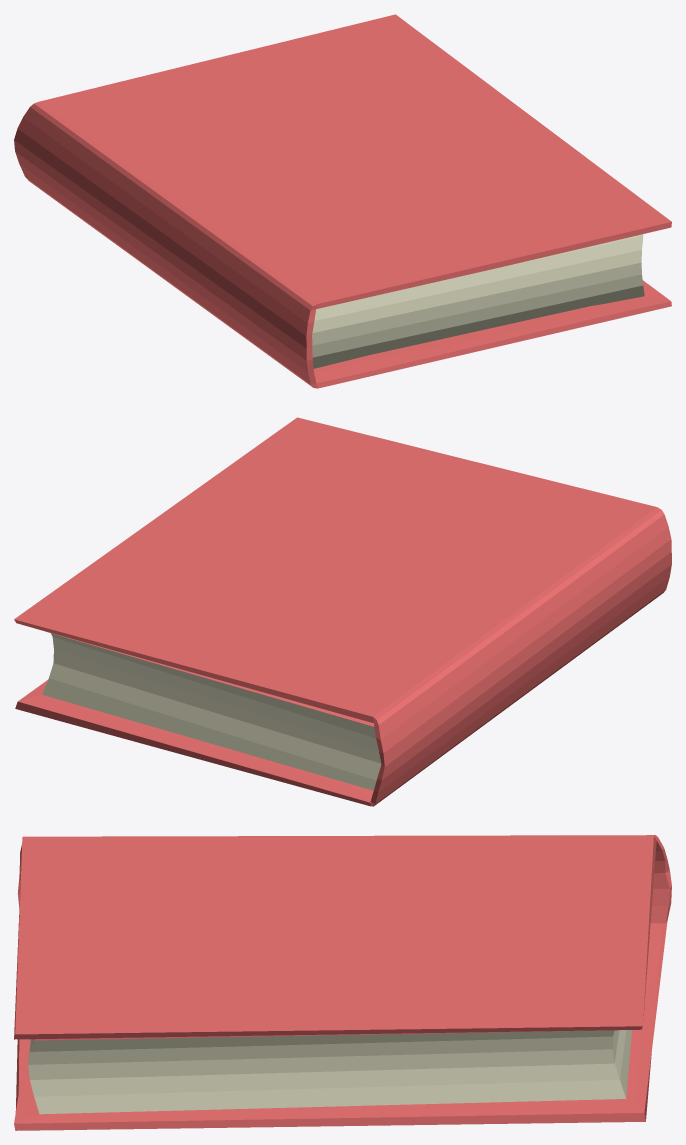
File: BookPastelRed.fbx
3 views of the same model, one above another, from view 1: azimuth 30°, elevation 25°; view 2: azimuth 150°, elevation 25°; view 3: azimuth 270°, elevation 25° (orthographic). The views are drawn at different scales.
Visible parts, largest first — view 1: Cube; view 2: Cube; view 3: Cube.
Boxes of the visible parts, x1=… form: Cube: x1=14, y1=14, x2=671, y2=388; Cube: x1=14, y1=417, x2=671, y2=806; Cube: x1=14, y1=835, x2=671, y2=1130.
Size of the model in its own units: 182 by 42.66 by 245.
